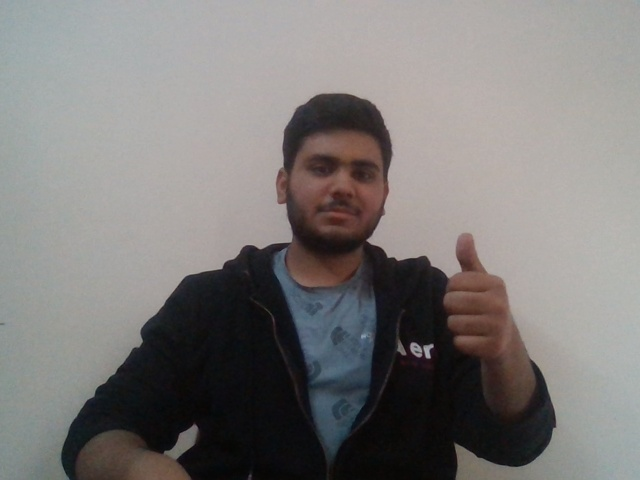Yes: (434, 230, 522, 357)
